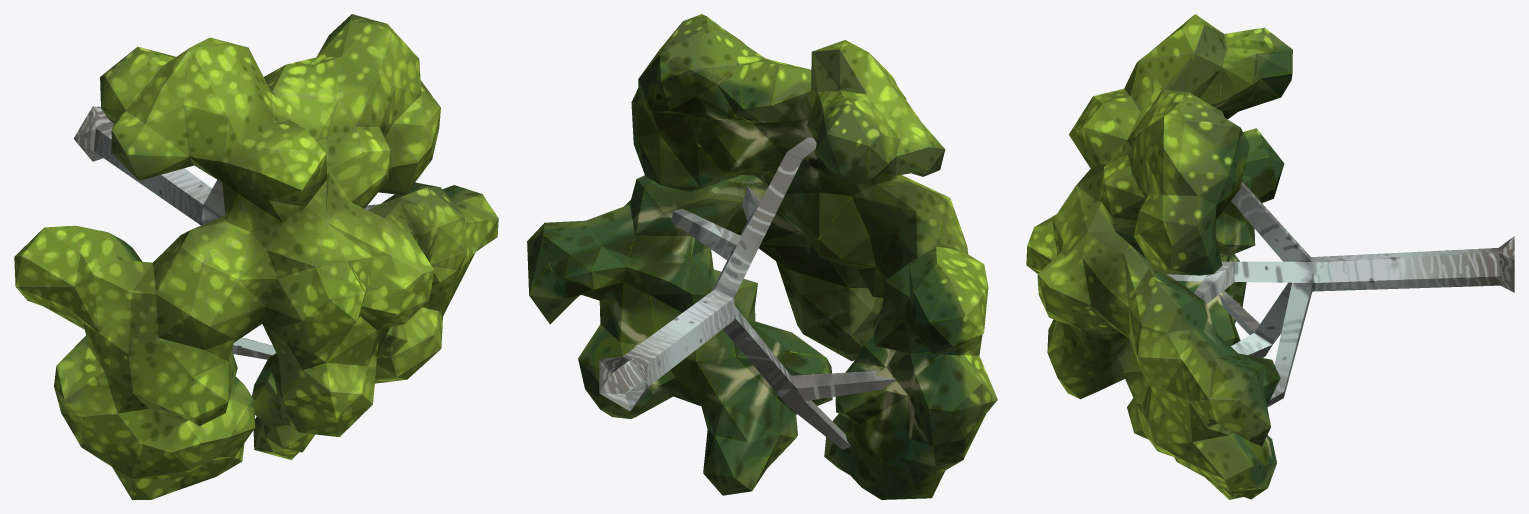
3 renders of one model, left to right at view 1: azimuth 30°, elevation 25°; view 2: azimuth 150°, elevation 25°; view 3: azimuth 270°, elevation 25°, orthographic. The views are drawn at different scales.
Visible parts, largest first — view 1: Icosphere.000_mat.tree-laurel_0; view 2: Icosphere.000_mat.tree-laurel_0; view 3: Icosphere.000_mat.tree-laurel_0.
Part boxes in pixels (x1,y1,x2,y2): Icosphere.000_mat.tree-laurel_0: [14, 14, 498, 499]; Icosphere.000_mat.tree-laurel_0: [527, 14, 997, 499]; Icosphere.000_mat.tree-laurel_0: [1026, 14, 1514, 499].
Size of the model in its own units: 6.35 by 5.93 by 6.09.
1 material, 1 textured.
